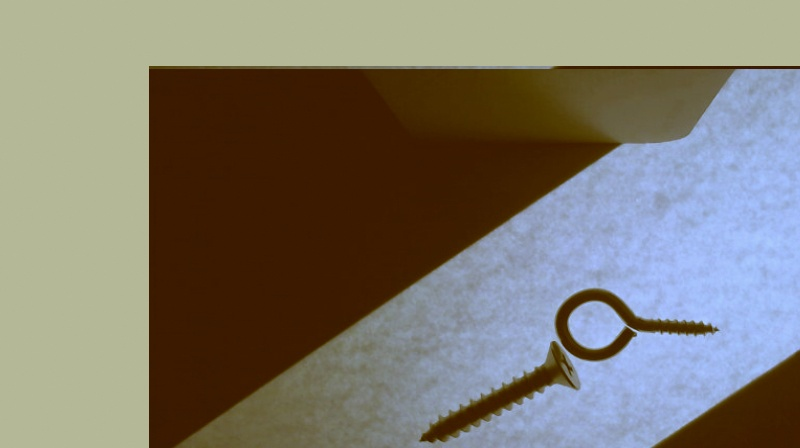O001: (552, 285, 721, 362)
S001: (413, 339, 581, 443)
